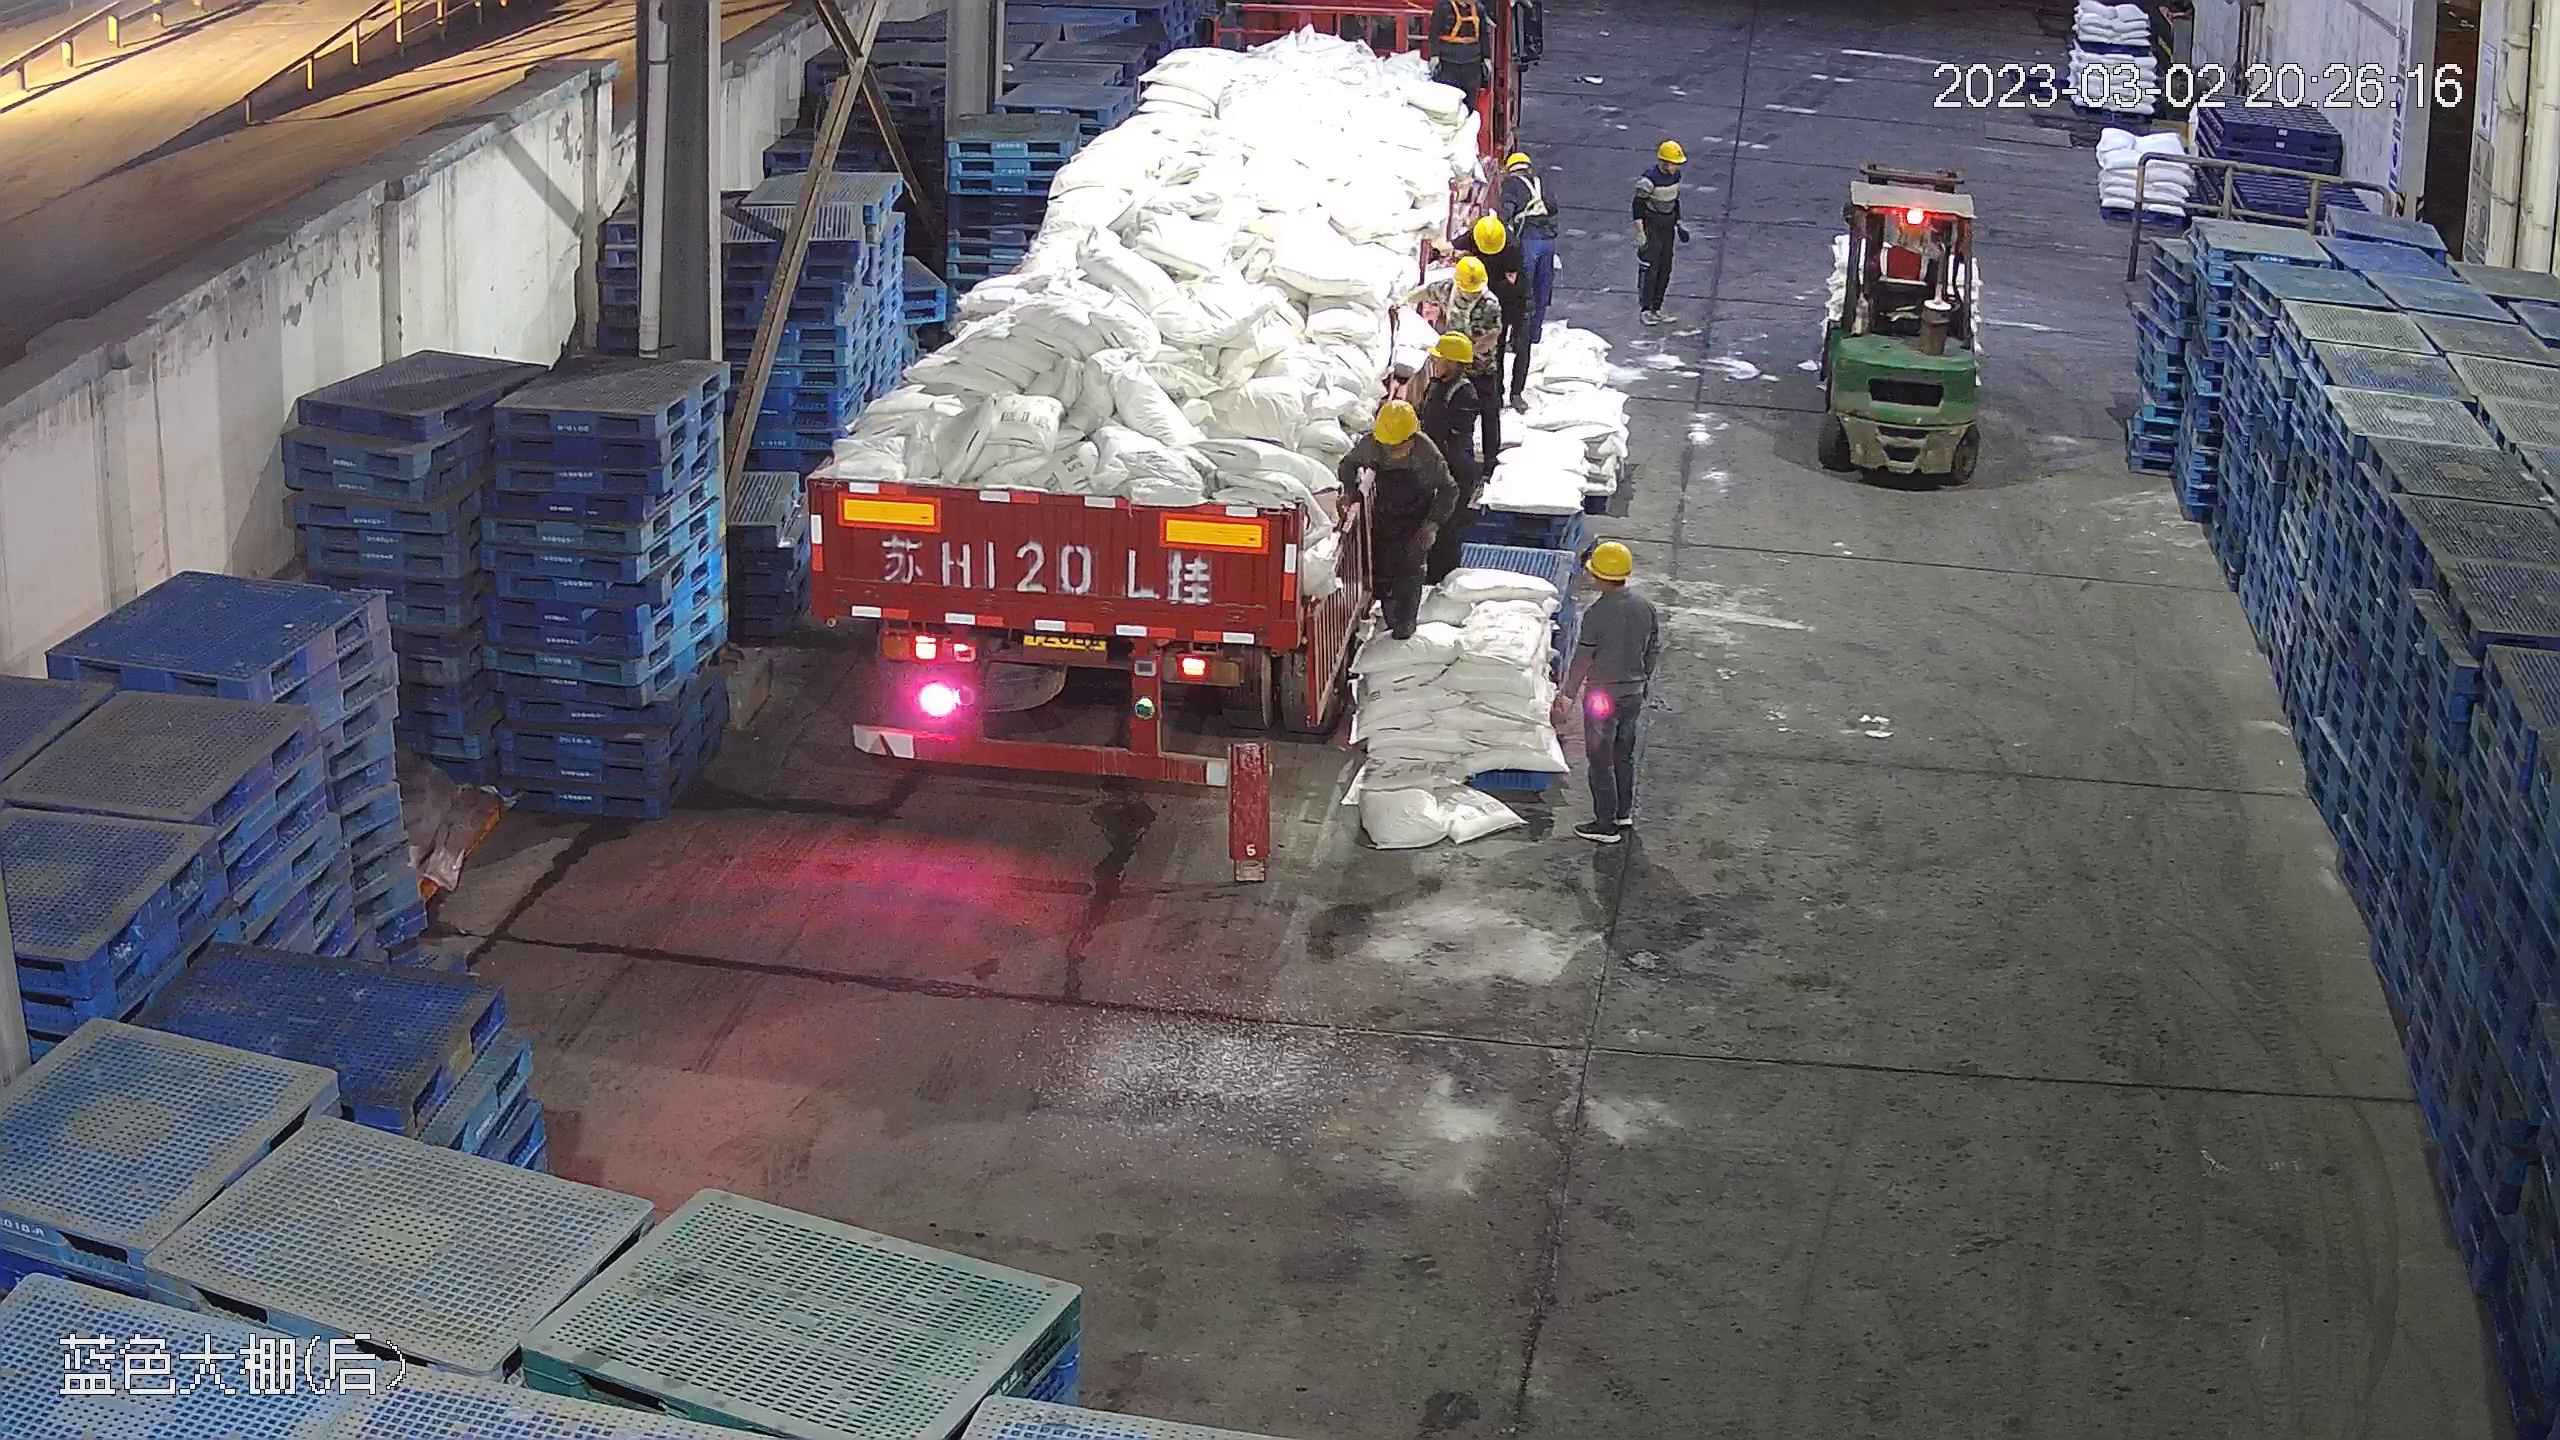belt: (1414, 363, 1475, 429), (1504, 162, 1551, 215), (1437, 295, 1489, 336), (1442, 3, 1487, 48)
head: (1564, 539, 1656, 642), (1346, 396, 1437, 484), (1404, 328, 1483, 409), (1634, 139, 1688, 202), (1497, 147, 1552, 203)
helmet: (1371, 394, 1422, 448), (1583, 541, 1633, 578), (1468, 214, 1502, 250), (1654, 139, 1686, 163), (1503, 148, 1529, 169)
people: (1554, 538, 1658, 833), (1398, 325, 1489, 600), (1341, 396, 1441, 637), (1450, 210, 1542, 436), (1630, 140, 1693, 322), (1491, 151, 1560, 308)
truck: (797, 8, 1516, 792)
